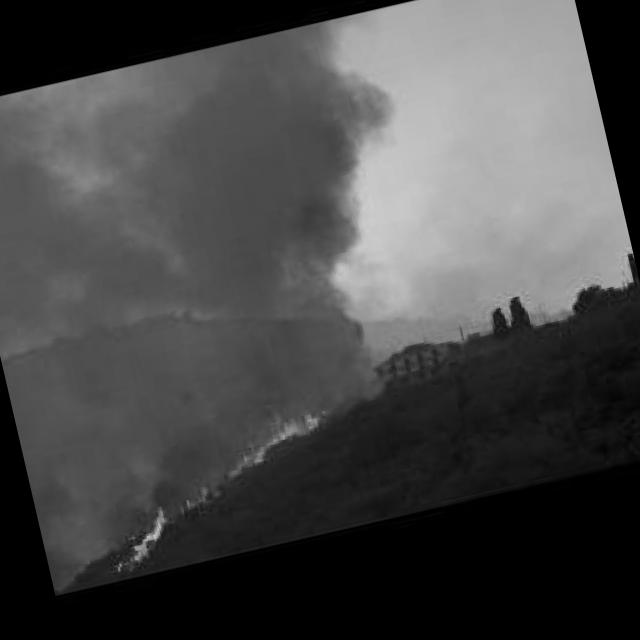fire: (216, 398, 335, 492), (104, 504, 181, 576), (178, 478, 218, 512)
smoke: (0, 9, 481, 598)
